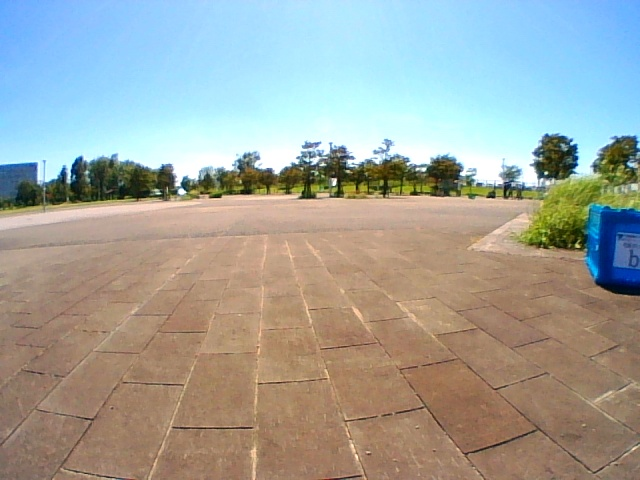blue_box: (590, 208, 640, 283)
tag_b: (618, 234, 640, 268)
